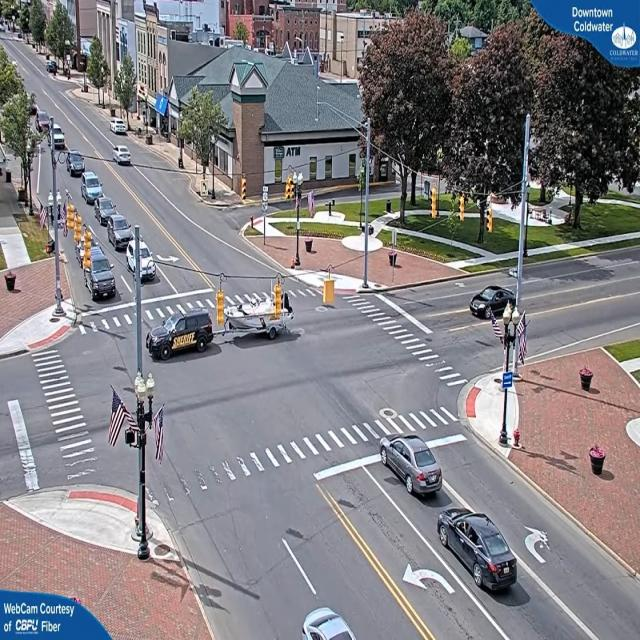car: (436, 510, 520, 594), (378, 434, 444, 500), (147, 308, 215, 359), (301, 605, 362, 640), (86, 243, 119, 299), (469, 284, 512, 318), (106, 216, 136, 251), (82, 170, 104, 198), (84, 181, 103, 203), (115, 147, 132, 166), (112, 120, 128, 136)
